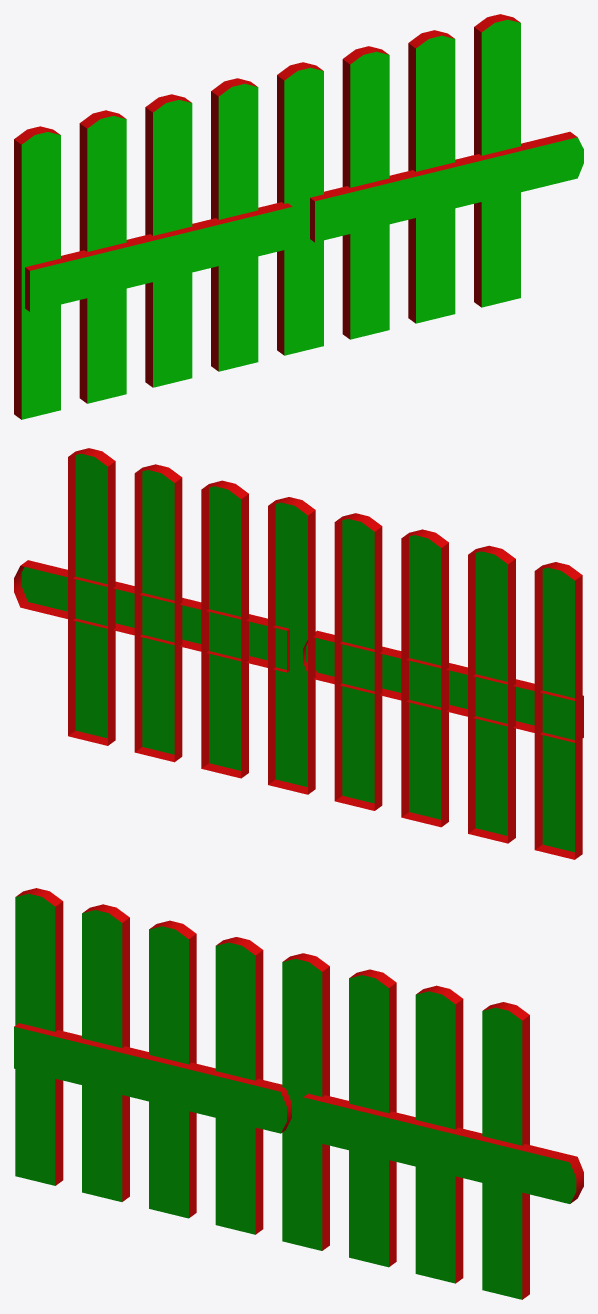
The model's file is Fence.fbx.
The picture shows the model from 3 angles, top to bottom: view 1: azimuth 30°, elevation 25°; view 2: azimuth 150°, elevation 25°; view 3: azimuth 330°, elevation 25°; orthographic projection.
Parts seen in each view (by area): view 1: polySurface2, polySurface1; view 2: polySurface2, polySurface1; view 3: polySurface2, polySurface1.
Boxes of the visible parts, box(x1,y1,x2,y2) form: polySurface2: box(14, 14, 528, 419); polySurface1: box(518, 131, 583, 192); polySurface2: box(68, 448, 583, 859); polySurface1: box(14, 560, 82, 622); polySurface2: box(14, 888, 529, 1299); polySurface1: box(509, 1144, 583, 1203).
Size of the model in its own units: 424 by 205 by 16.47.
